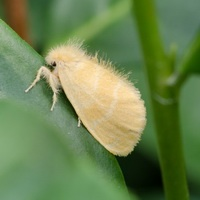insect: (25, 40, 145, 155)
